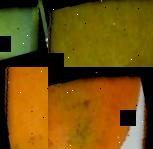PartiallyRipe: (0, 67, 48, 149)
Ripe: (48, 67, 153, 149)
Unripe: (48, 0, 153, 67), (0, 0, 48, 67)
